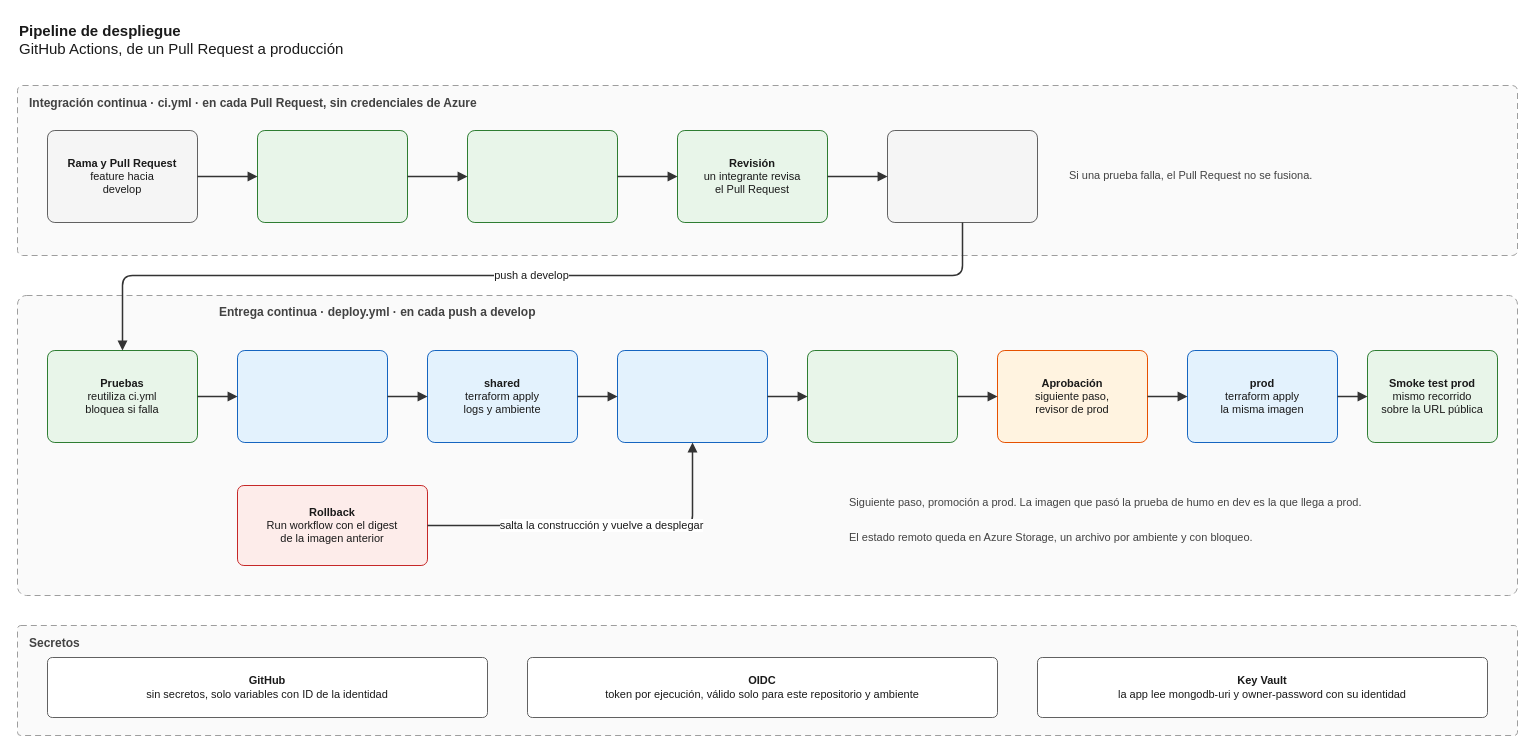
Some shapes in this 1535 by 753 pixel diagram are drawn without their labels. Here are the shapes that lost their labels. From the top down, the box of each, then its label:
(256, 130, 408, 222): Lint y pruebas ruff pytest, 80 pruebas
(466, 130, 618, 222): Terraform fmt, validate pruebas de módulos
(886, 130, 1038, 222): Merge a develop con las pruebas en verde
(236, 350, 388, 442): Imagen build y push a GHCR se fija por digest
(616, 350, 768, 442): dev terraform apply OIDC, ambiente dev
(806, 350, 958, 442): Smoke test dev catálogo, pedido y panel protegido
